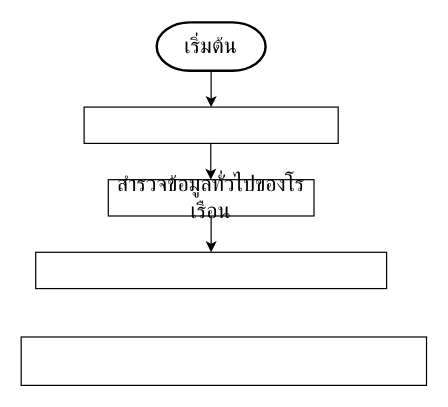
The diagram is 448 pixels wide and 407 high, and some of its shapes have lost their labels. Here are the shapes that lost their labels. From the top down, the centre of each, then its label:
the point at 210,124: ศึกษาทฤษฎีและงานวิจัยที่เกี่ยวข้อง
the point at 210,270: ทำการออกแบบระบบตรวจวัดและควบคุมโรงเรือน
